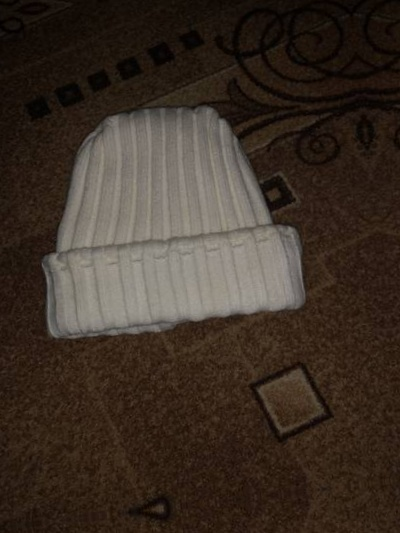Hat: (13, 69, 351, 378), (397, 23, 400, 332)
